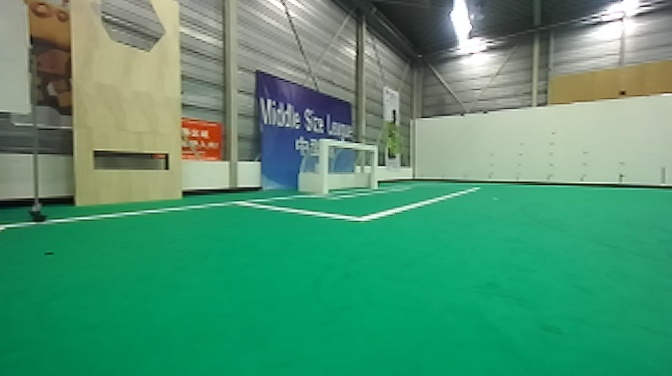goalpost: (317, 135, 333, 192), (366, 144, 383, 193)
